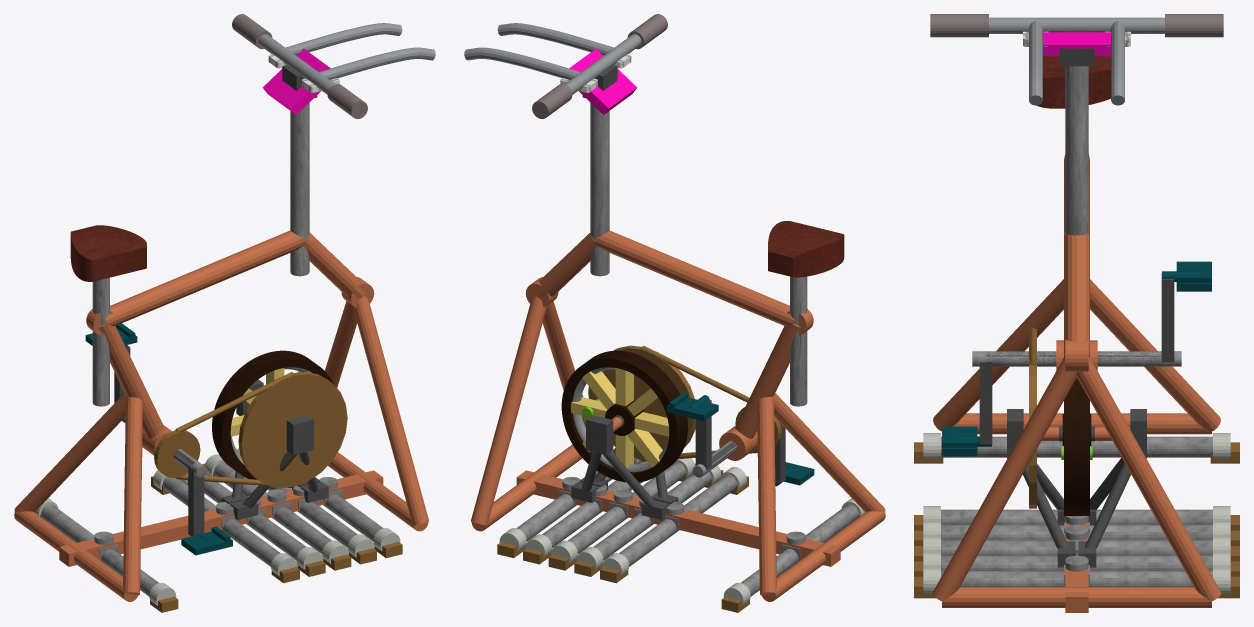
The model's file is Sports_Exercise_bike__0119.glb.
3 renders of one model, left to right at view 1: azimuth 30°, elevation 25°; view 2: azimuth 150°, elevation 25°; view 3: azimuth 270°, elevation 25°, orthographic. The views are drawn at different scales.
Parts seen in each view (by area): view 1: body::frame, body::belt_drive, saddle_post::saddle_pad, flywheel::flywheel_rim, body::flywheel_axle_support, handlebar_post::handlebar_post_tube, saddle_post::saddle_post_tube, stabilizer_foot_4::stabilizer_tube, stabilizer_foot_5::stabilizer_tube, stabilizer_foot_2::stabilizer_tube, stabilizer_foot_3::stabilizer_tube, handlebar_post::console_pad (+9 smaller); view 2: body::frame, flywheel::flywheel_rim, saddle_post::saddle_pad, body::flywheel_axle_support, body::belt_drive, handlebar_post::handlebar_post_tube, saddle_post::saddle_post_tube, stabilizer_foot_4::stabilizer_tube, stabilizer_foot_3::stabilizer_tube, stabilizer_foot_2::stabilizer_tube, stabilizer_foot_5::stabilizer_tube, crank::crank_body (+15 smaller); view 3: body::frame, body::flywheel_axle_support, handlebar_post::handlebar_post_tube, flywheel::flywheel_rim, stabilizer_foot_0::stabilizer_tube, crank::crank_body, stabilizer_foot_1::stabilizer_tube, stabilizer_foot_2::stabilizer_tube, stabilizer_foot_5::stabilizer_tube, stabilizer_foot_3::stabilizer_tube, stabilizer_foot_4::stabilizer_tube, handlebar_post::crossbar (+13 smaller).
Part boxes in pixels (box(x1,y1,x2,y2)): body::frame: box(14, 230, 428, 601); body::belt_drive: box(154, 372, 347, 487); saddle_post::saddle_pad: box(70, 225, 146, 281); flywheel::flywheel_rim: box(212, 350, 333, 479); body::flywheel_axle_support: box(221, 379, 328, 520); handlebar_post::handlebar_post_tube: box(290, 103, 309, 276); saddle_post::saddle_post_tube: box(92, 277, 109, 406); stabilizer_foot_4::stabilizer_tube: box(163, 476, 280, 566); stabilizer_foot_5::stabilizer_tube: box(41, 504, 158, 596); stabilizer_foot_2::stabilizer_tube: box(214, 462, 331, 554); stabilizer_foot_3::stabilizer_tube: box(204, 474, 305, 560); handlebar_post::console_pad: box(262, 48, 330, 114); body::frame: box(471, 230, 885, 601); flywheel::flywheel_rim: box(561, 350, 687, 482); saddle_post::saddle_pad: box(768, 221, 844, 277); body::flywheel_axle_support: box(571, 415, 678, 520); body::belt_drive: box(588, 345, 781, 461); handlebar_post::handlebar_post_tube: box(590, 103, 609, 276); saddle_post::saddle_post_tube: box(790, 276, 807, 406); stabilizer_foot_4::stabilizer_tube: box(619, 475, 736, 566); stabilizer_foot_3::stabilizer_tube: box(594, 472, 711, 560); stabilizer_foot_2::stabilizer_tube: box(568, 462, 685, 554); stabilizer_foot_5::stabilizer_tube: box(741, 504, 858, 596); crank::crank_body: box(695, 400, 785, 483); body::frame: box(932, 154, 1221, 612); body::flywheel_axle_support: box(1007, 409, 1146, 567); handlebar_post::handlebar_post_tube: box(1065, 66, 1088, 235); flywheel::flywheel_rim: box(1064, 356, 1089, 515); stabilizer_foot_0::stabilizer_tube: box(941, 571, 1212, 586); crank::crank_body: box(979, 273, 1174, 444); stabilizer_foot_1::stabilizer_tube: box(941, 555, 1212, 570); stabilizer_foot_2::stabilizer_tube: box(941, 540, 1212, 555); stabilizer_foot_5::stabilizer_tube: box(941, 436, 1212, 457); stabilizer_foot_3::stabilizer_tube: box(941, 525, 1212, 540); stabilizer_foot_4::stabilizer_tube: box(941, 509, 1212, 524); handlebar_post::crossbar: box(989, 17, 1164, 33).
Bounding box in the file's own units: 0.8539 × 1.06 × 0.5549.
14 materials, 11 textured.
